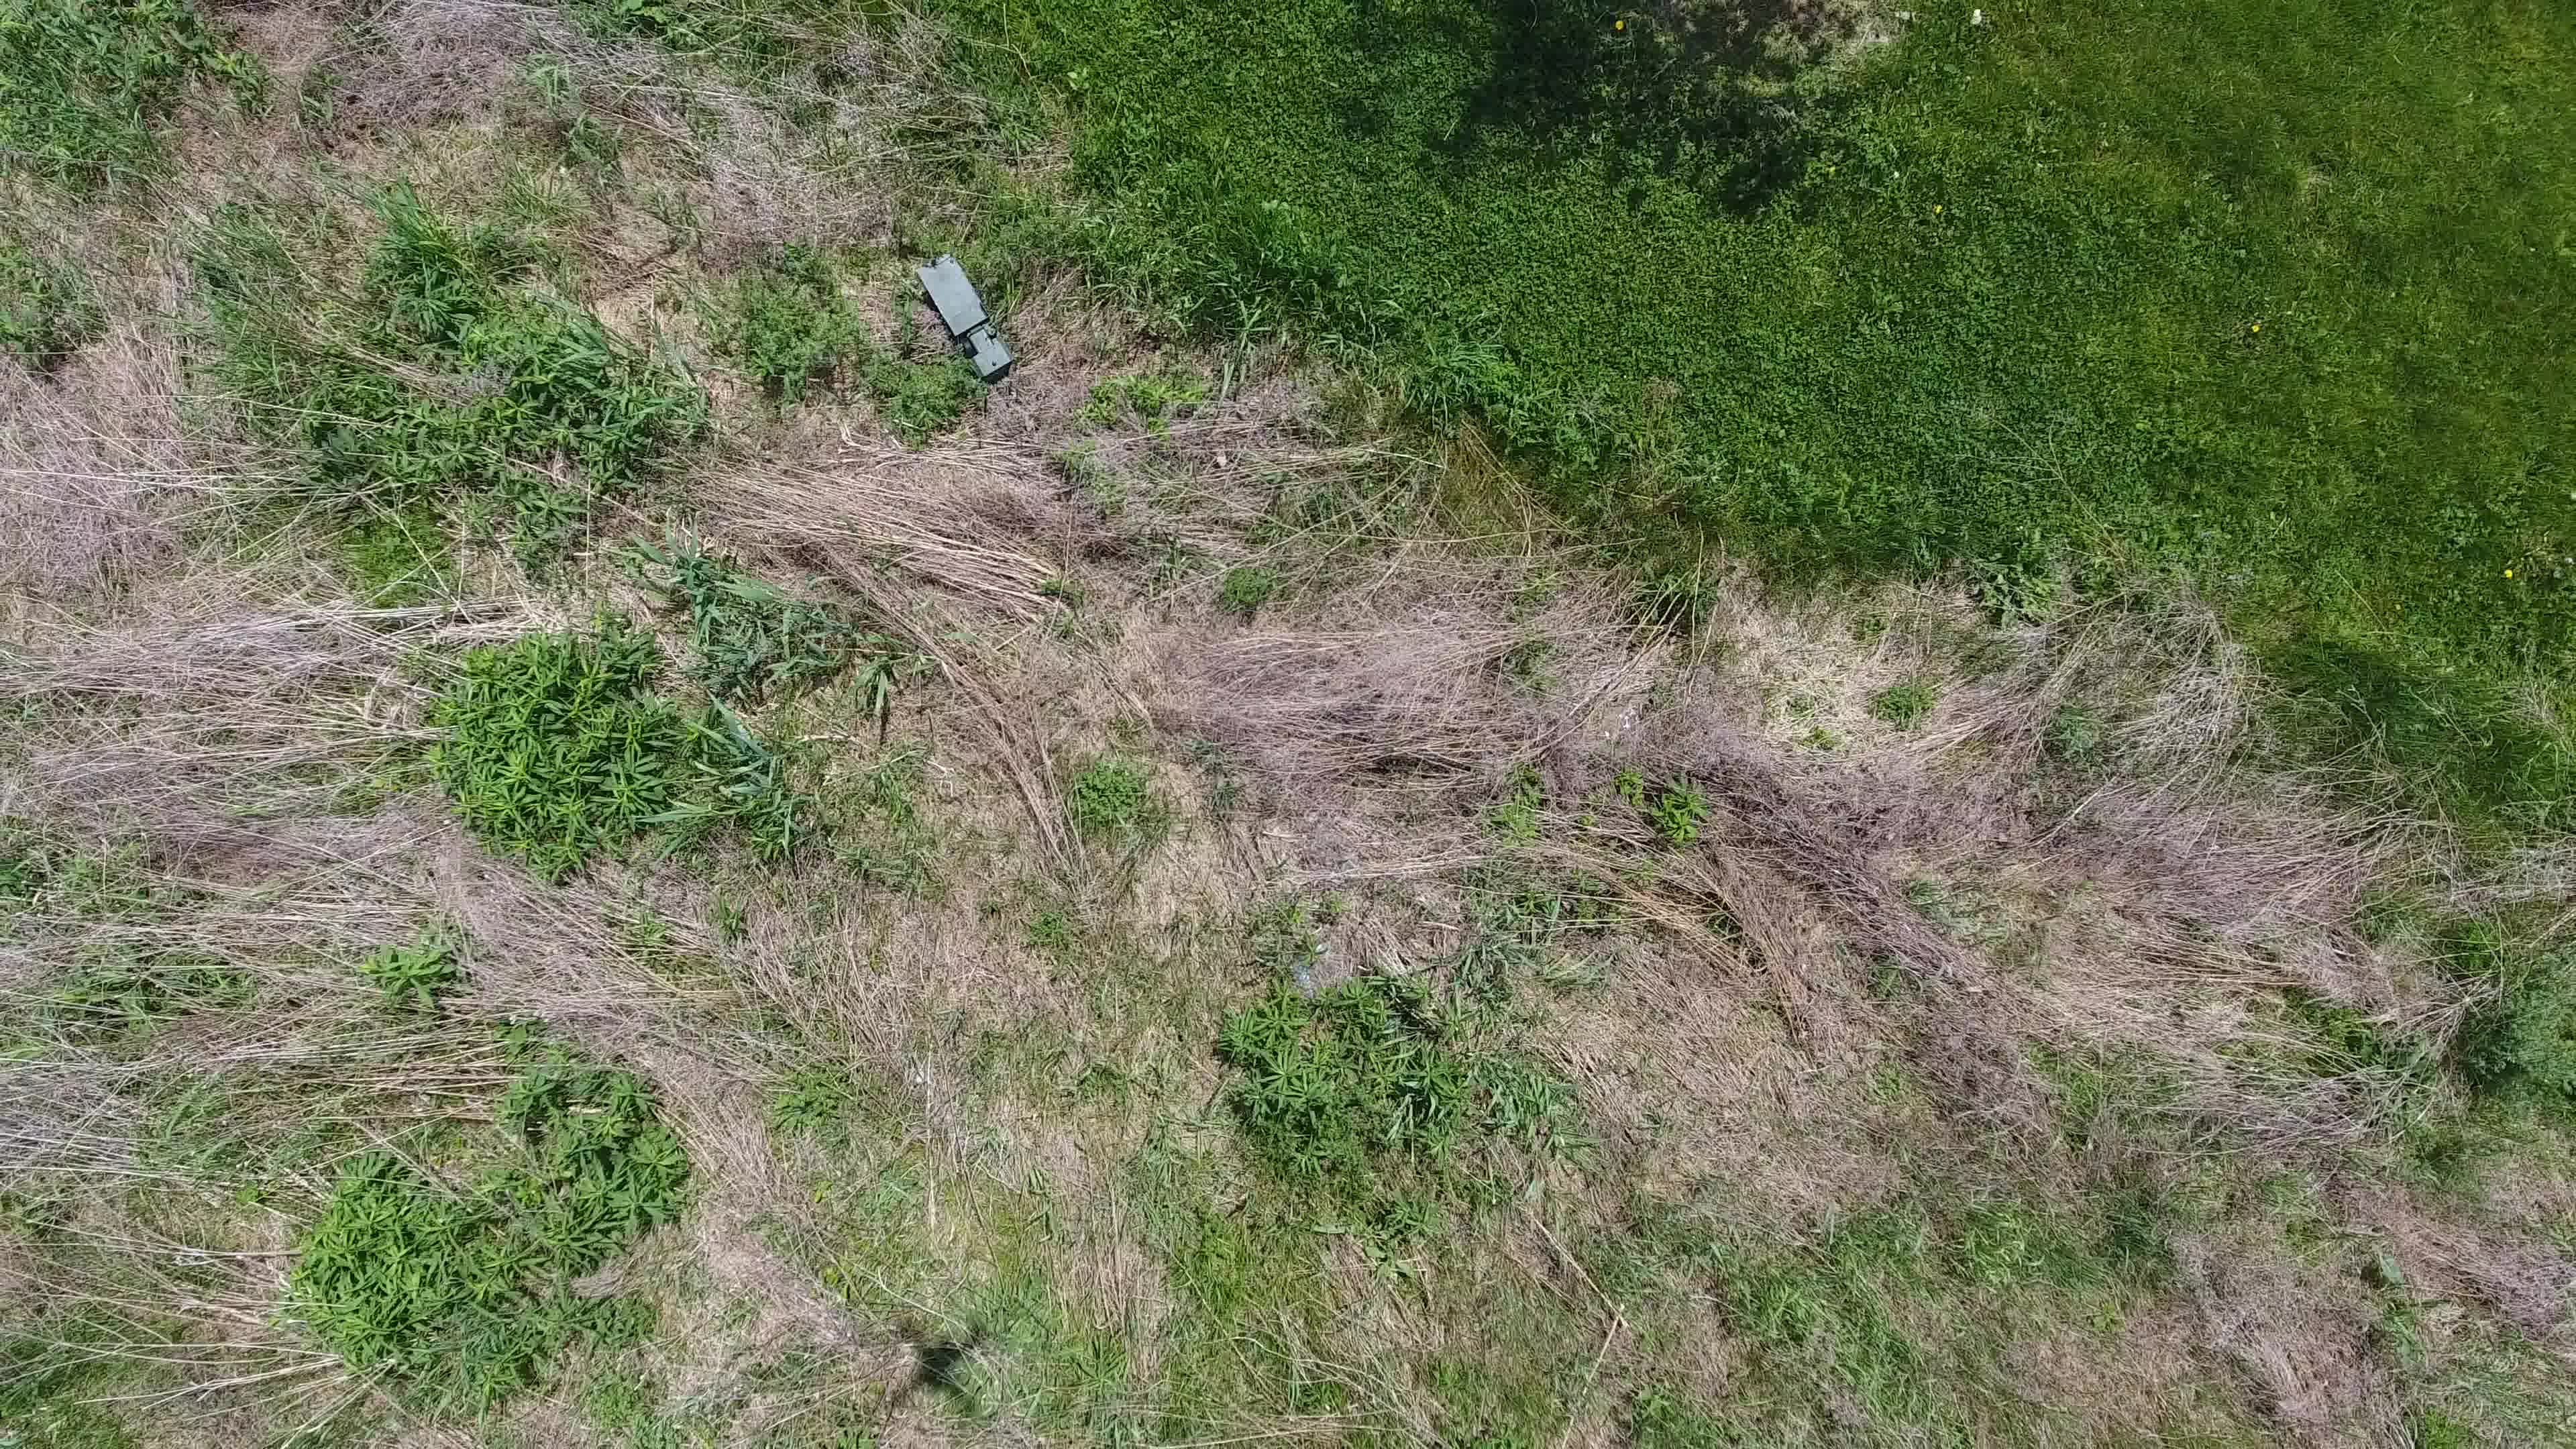transporter9: (916, 248, 1019, 395)
